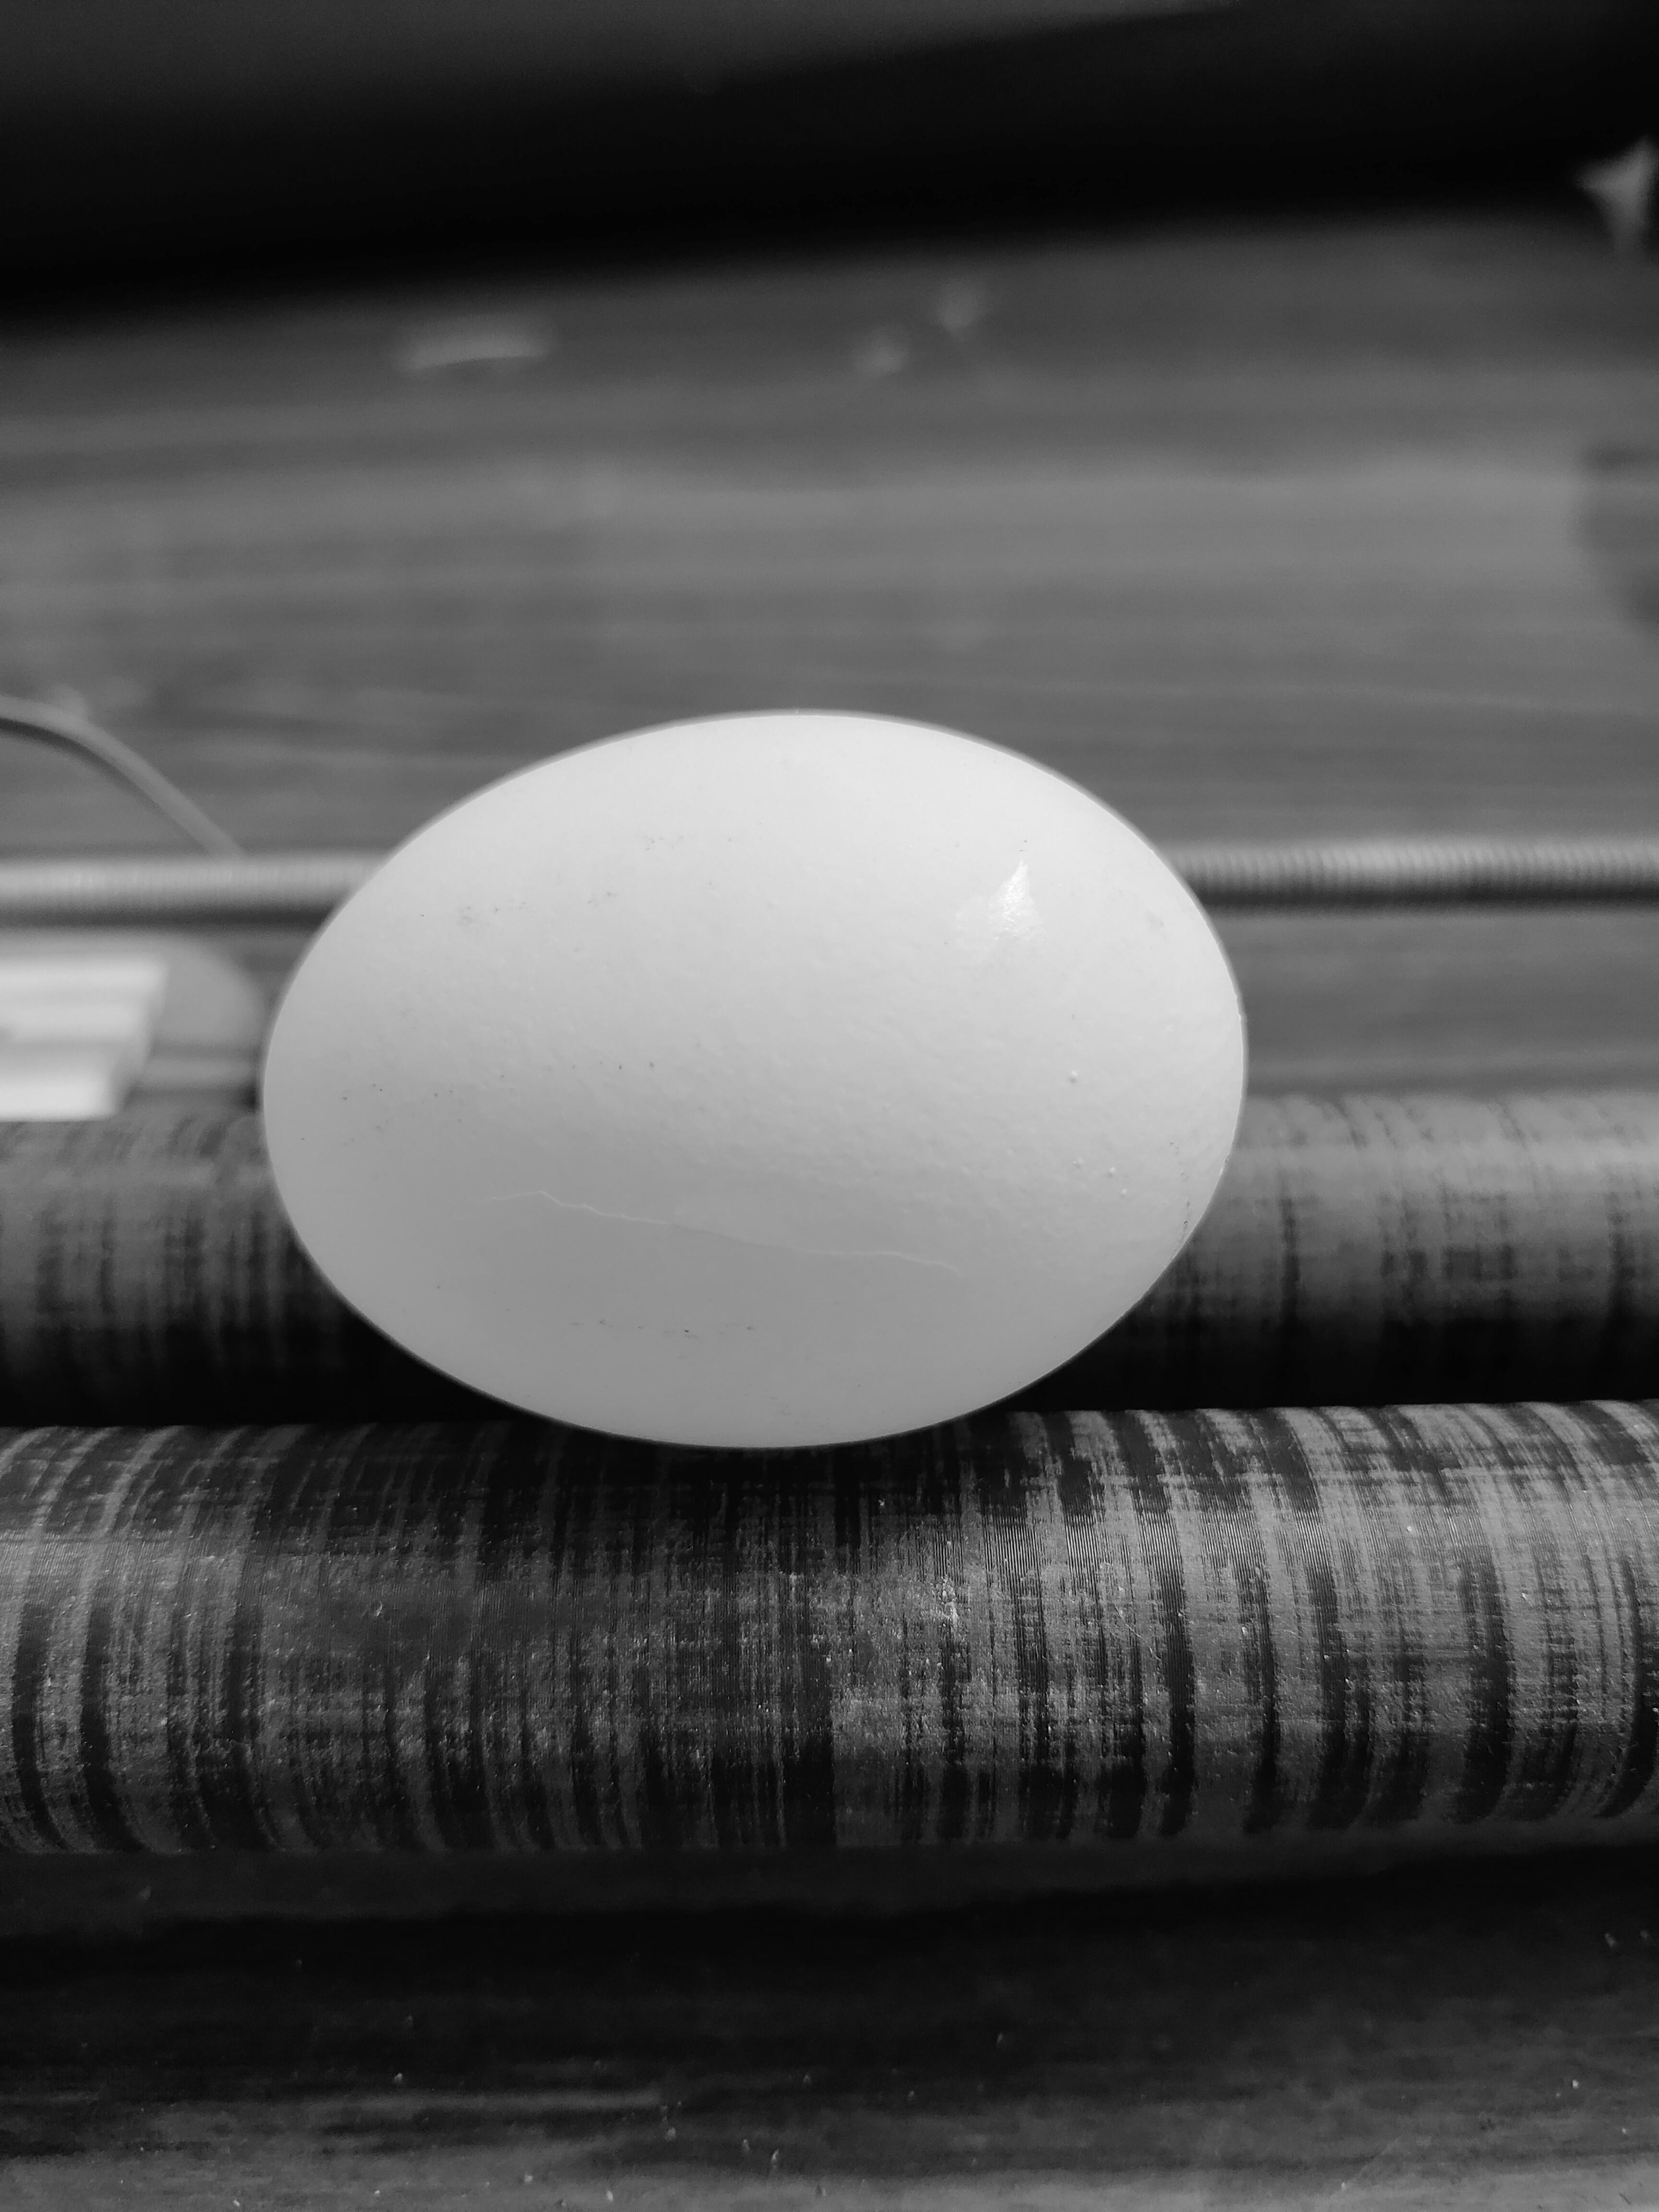telur: (235, 669, 1276, 1472)
